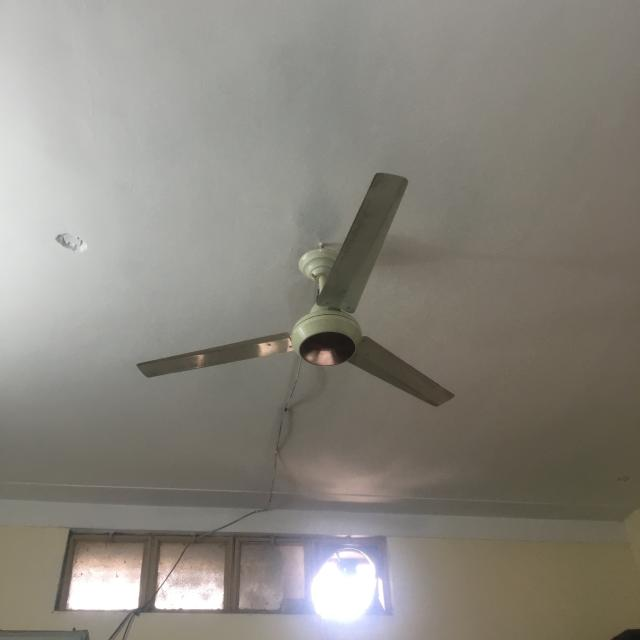off: (131, 166, 465, 421)
